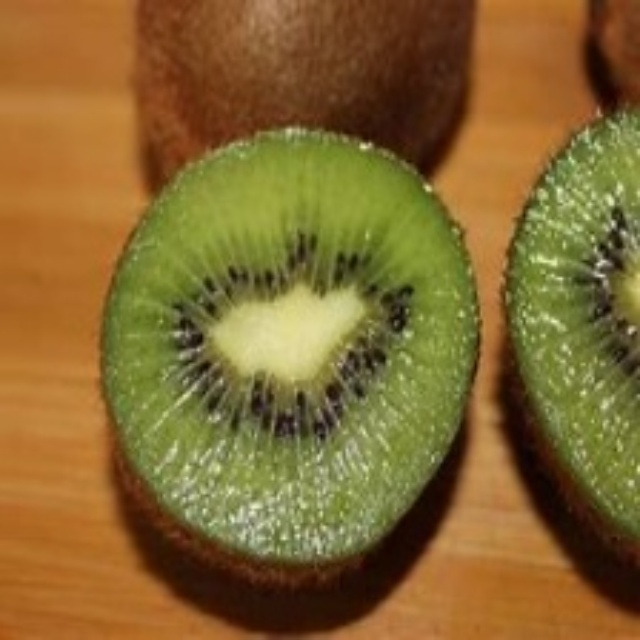kiwi: (100, 128, 480, 586), (507, 109, 639, 565), (132, 3, 467, 170)
